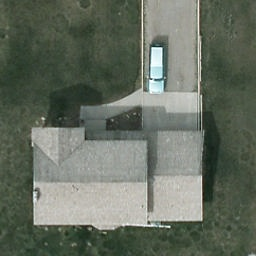car: (147, 43, 169, 95)
